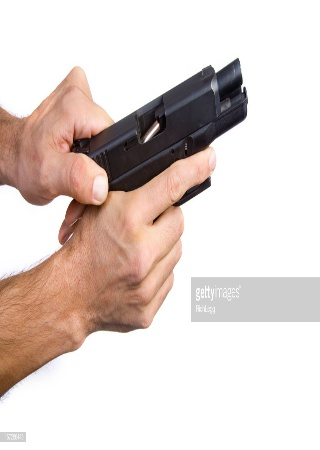handgun: (62, 53, 260, 212)
